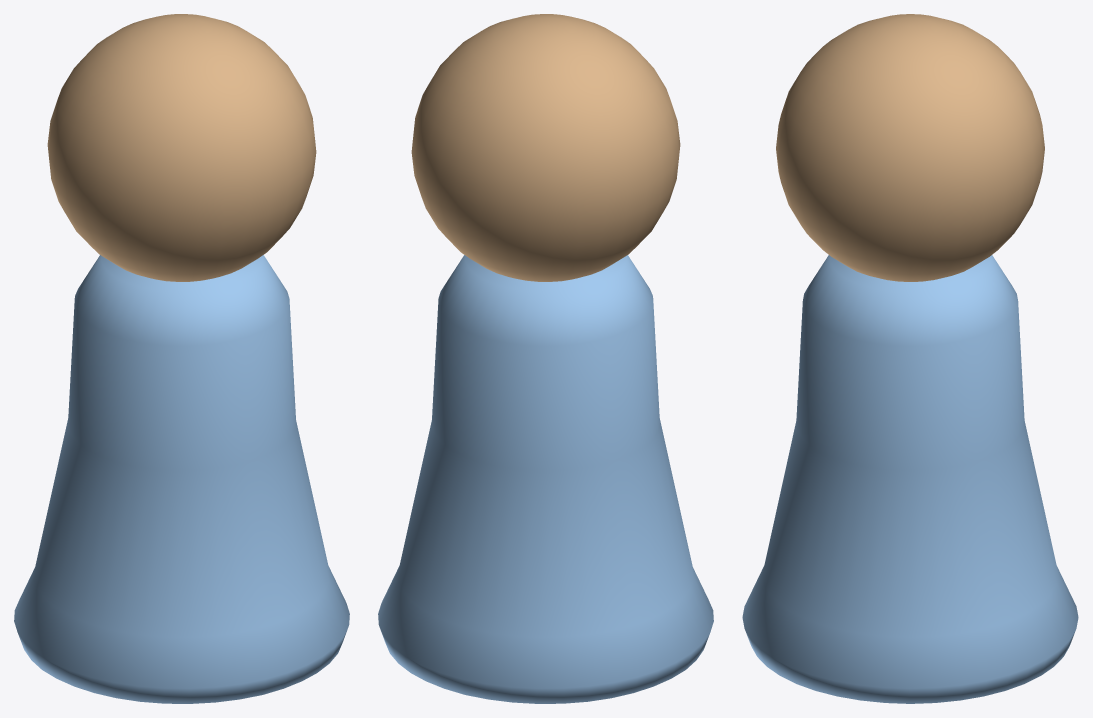
The model's file is profile.glb.
3 views of the same model, side by side, from view 1: azimuth 30°, elevation 25°; view 2: azimuth 150°, elevation 25°; view 3: azimuth 270°, elevation 25° (orthographic).
Parts seen in each view (by area): view 1: profile; view 2: profile; view 3: profile.
Boxes of the visible parts, x1=… form: profile: x1=14, y1=14, x2=349, y2=703; profile: x1=378, y1=14, x2=713, y2=703; profile: x1=742, y1=14, x2=1078, y2=703.
Size of the model in its own units: 0.5 by 1 by 0.5.
